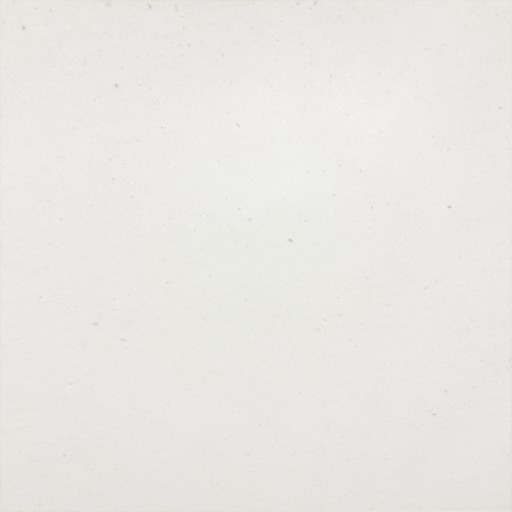lego: (232, 212, 283, 303)
